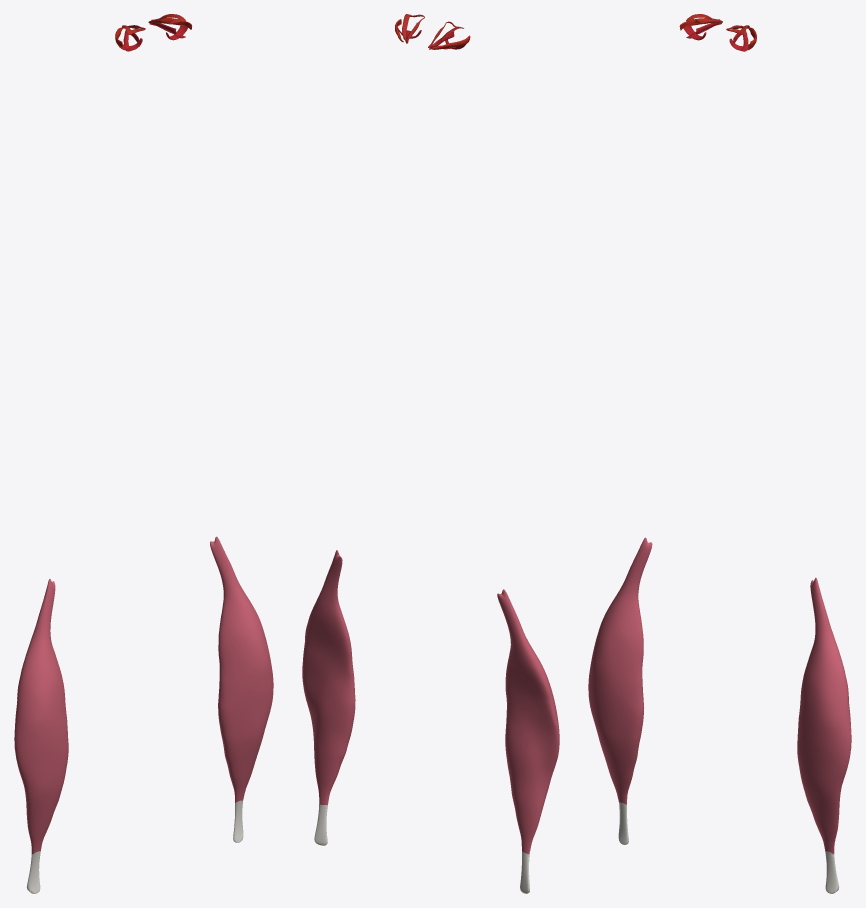
Rendered from female-muscular.glb.
3 renders of one model, left to right at view 1: azimuth 30°, elevation 25°; view 2: azimuth 150°, elevation 25°; view 3: azimuth 330°, elevation 25°, orthographic. The views are drawn at different scales.
Parts seen in each view (by area): view 1: VH_F_rectus_femoris_L, VH_F_rectus_femoris_R; view 2: VH_F_rectus_femoris_R, VH_F_rectus_femoris_L; view 3: VH_F_rectus_femoris_R, VH_F_rectus_femoris_L.
Part boxes in pixels (box(x1,y1,x2,y2)): VH_F_rectus_femoris_L: box(210, 536, 273, 802); VH_F_rectus_femoris_R: box(14, 579, 68, 853); VH_F_rectus_femoris_R: box(497, 589, 559, 854); VH_F_rectus_femoris_L: box(302, 550, 355, 804); VH_F_rectus_femoris_R: box(588, 537, 652, 804); VH_F_rectus_femoris_L: box(797, 577, 851, 853).
Bounding box in the file's own units: 0.3555 × 1.12 × 0.0543.
